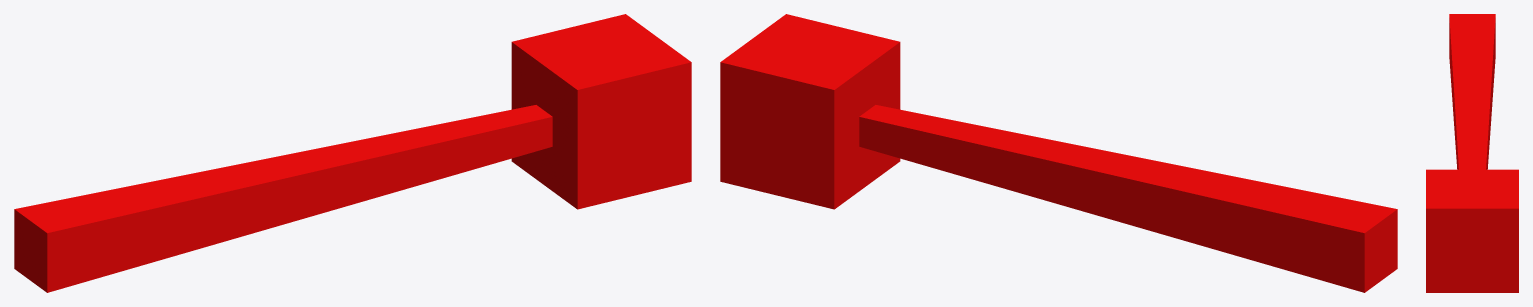
Rendered from grabx.obj.
3 renders of one model, left to right at view 1: azimuth 30°, elevation 25°; view 2: azimuth 150°, elevation 25°; view 3: azimuth 270°, elevation 25°, orthographic. The views are drawn at different scales.
Parts seen in each view (by area): view 1: Cube; view 2: Cube; view 3: Cube.
Boxes of the visible parts, <box> form: Cube: <box>14,14,691,292</box>; Cube: <box>720,14,1397,292</box>; Cube: <box>1426,14,1518,292</box>.
Bounding box in the file's own units: 0.55 × 0.1 × 0.1.
